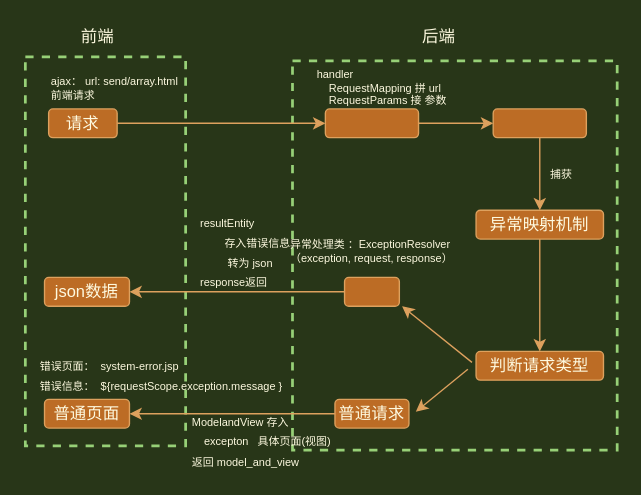
This 641x495 diagram has some shape labels left out. The centre of each missing label's shape, as x and y in pixels:
ajax: point (371, 291)
处理请求: point (371, 123)
抛出异常: point (539, 123)
